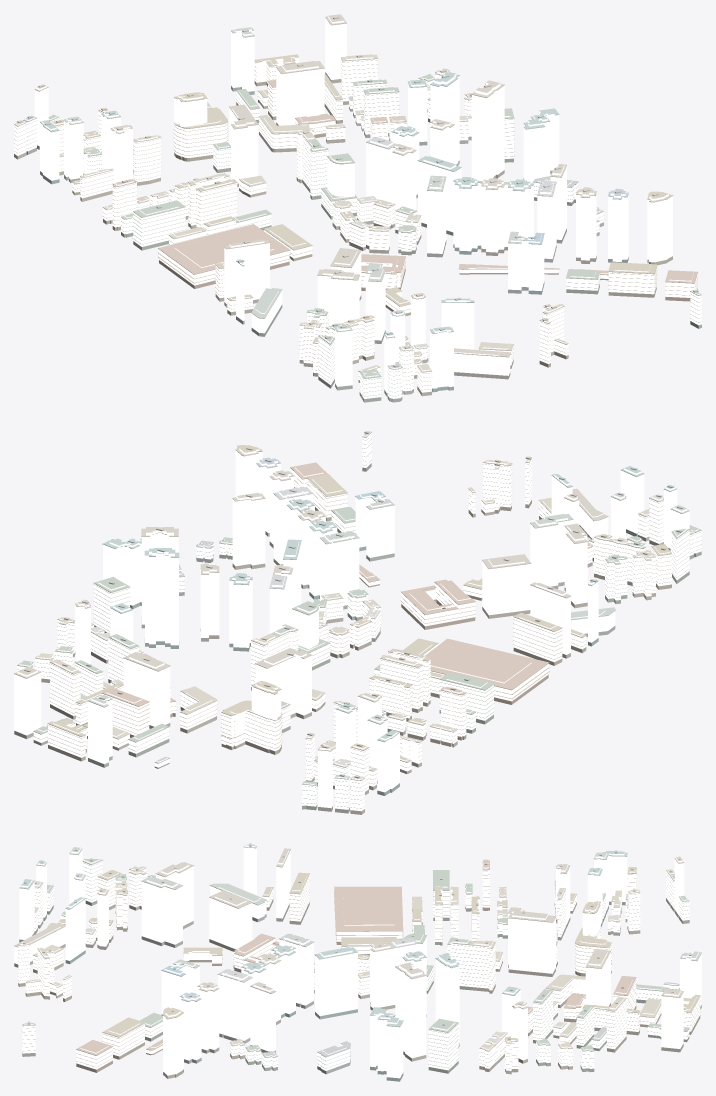
File: buildings--11_-2-fine.glb
3 renders of one model, top to bottom at view 1: azimuth 30°, elevation 25°; view 2: azimuth 150°, elevation 25°; view 3: azimuth 270°, elevation 25°, orthographic. The views are drawn at different scales.
Visible parts, largest first — view 1: block_-11_-2_office, block_-11_-2_residential, block_-11_-2_roof, block_-11_-2_darkglass, block_-11_-2_concrete, block_-11_-2_steel; view 2: block_-11_-2_office, block_-11_-2_residential, block_-11_-2_roof, block_-11_-2_darkglass, block_-11_-2_concrete, block_-11_-2_steel; view 3: block_-11_-2_office, block_-11_-2_residential, block_-11_-2_roof, block_-11_-2_darkglass, block_-11_-2_concrete, block_-11_-2_steel.
Boxes of the visible parts, x1,y1,x2,y2 form: block_-11_-2_office: (34,16,672,392); block_-11_-2_residential: (14,57,701,398); block_-11_-2_roof: (14,14,701,395); block_-11_-2_darkglass: (14,72,701,402); block_-11_-2_concrete: (14,57,701,396); block_-11_-2_steel: (35,17,673,357); block_-11_-2_office: (14,448,689,808); block_-11_-2_residential: (17,432,701,811); block_-11_-2_roof: (14,431,701,802); block_-11_-2_darkglass: (14,463,701,814); block_-11_-2_concrete: (17,432,701,808); block_-11_-2_steel: (14,450,689,751); block_-11_-2_office: (14,845,701,1078); block_-11_-2_residential: (18,859,700,1070); block_-11_-2_roof: (14,843,701,1078); block_-11_-2_darkglass: (14,898,701,1081); block_-11_-2_concrete: (18,860,698,1068); block_-11_-2_steel: (14,847,700,1027).
Size of the model in its own units: 410 by 91.13 by 658.
